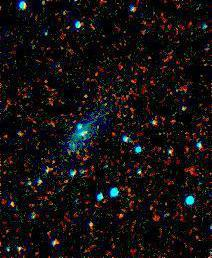star: (103, 201, 133, 231)
